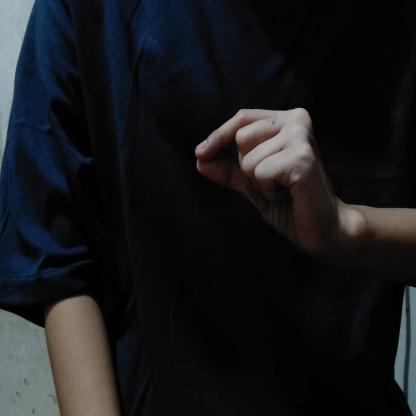nothing: (189, 99, 360, 274)
